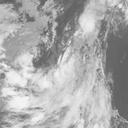cyclone: (16, 27, 82, 93)
